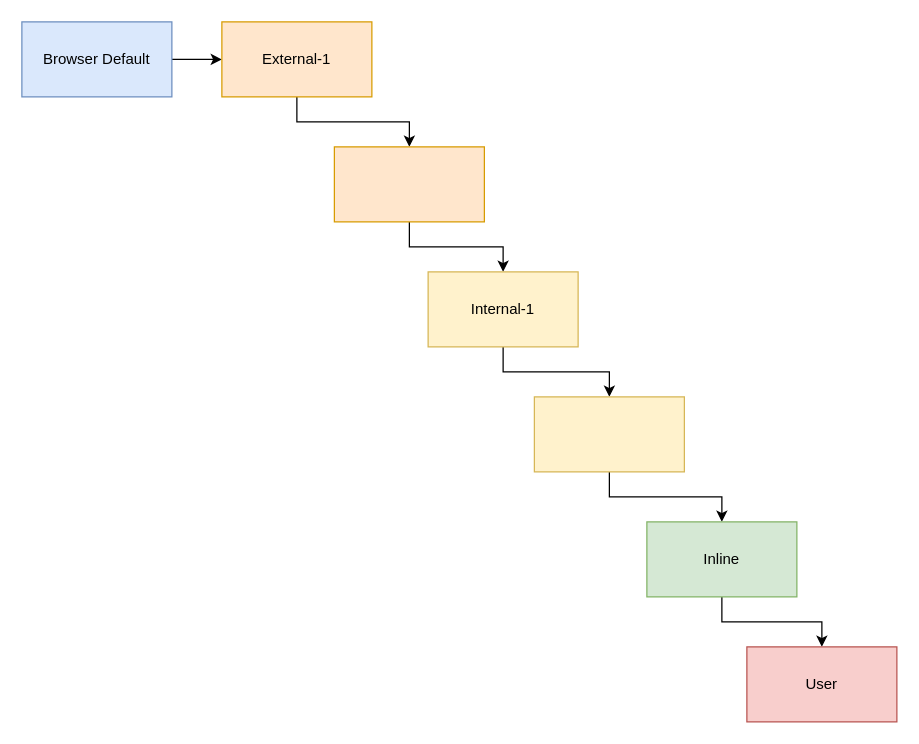
Image size: 919x744. Some labels were removed from this diagram. The centre of each missing label's shape, as x and y in pixels:
"External-n" belongs at (x=408, y=184).
"Internal-2" belongs at (x=608, y=434).
